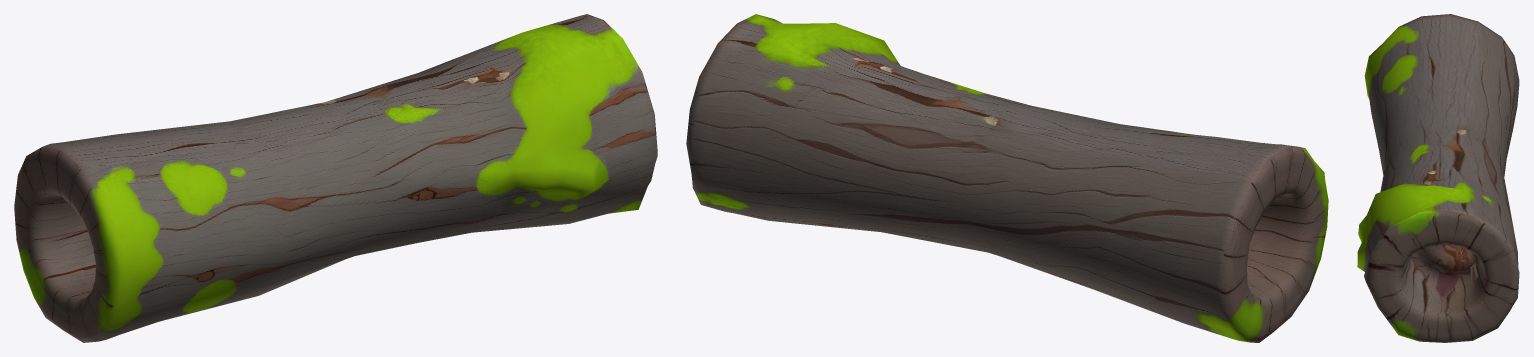
Rendered from p_log_fallen.glb.
3 views of the same model, side by side, from view 1: azimuth 30°, elevation 25°; view 2: azimuth 150°, elevation 25°; view 3: azimuth 270°, elevation 25° (orthographic). The views are drawn at different scales.
Parts seen in each view (by area): view 1: Mesh_0; view 2: Mesh_0; view 3: Mesh_0.
Boxes of the visible parts, x1,y1,x2,y2 form: Mesh_0: (14,14,657,342); Mesh_0: (686,14,1328,342); Mesh_0: (1357,14,1519,342).
Size of the model in its own units: 0.2211 by 0.07 by 0.076.
Materials: 1 (1 with a texture image).
